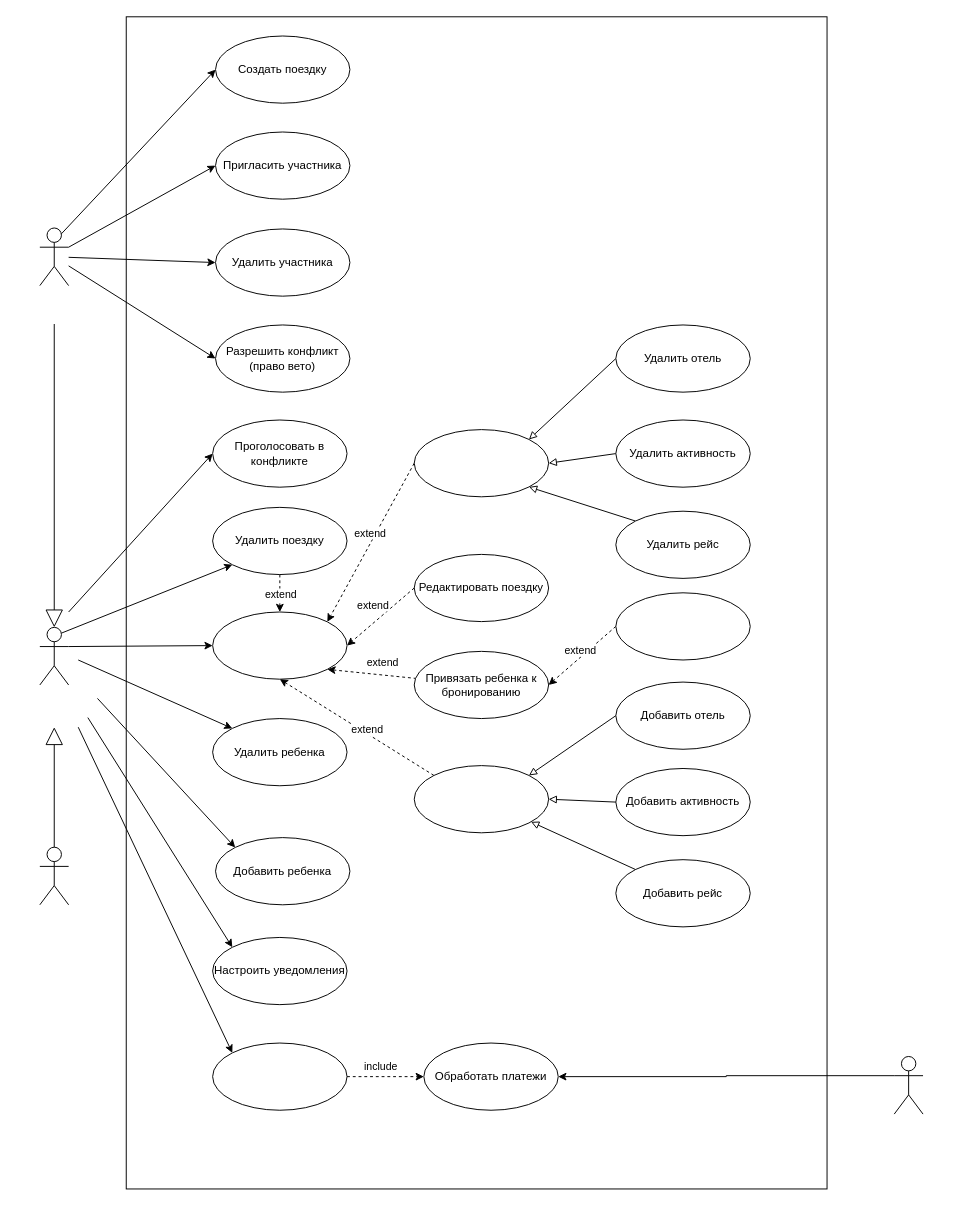
The diagram is 976 pixels wide and 1206 high, and some of its shapes have lost their labels. Here are the shapes that lost their labels. From the top down, the box of each, then its label:
(39, 227, 69, 286): Организатор
(413, 429, 549, 497): Удалить элемент поездки
(212, 611, 347, 679): Посмотреть поездку
(615, 592, 750, 660): Добавить подтверждающие документы
(39, 626, 69, 685): Пользователь
(413, 765, 549, 833): Добавить элемент поездки
(39, 846, 69, 905): Участник
(212, 1042, 347, 1110): Оплатить свои элементы поездки
(893, 1056, 923, 1114): Платежны системы
